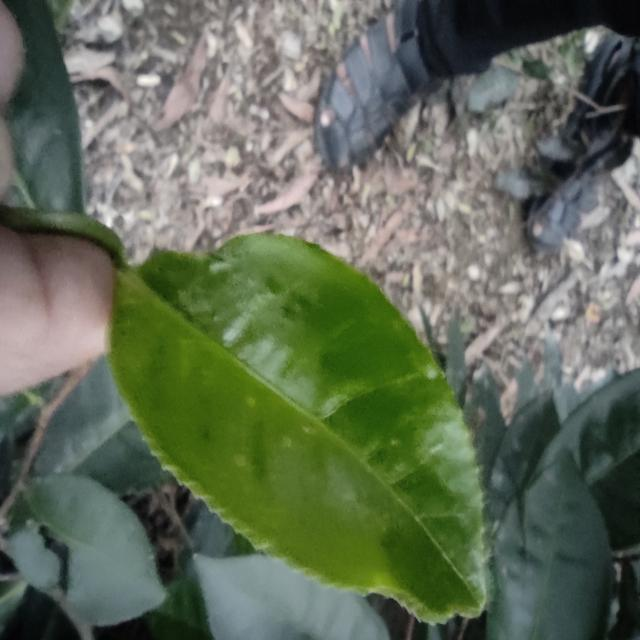Category C(4-7 days): (68, 184, 500, 623)
